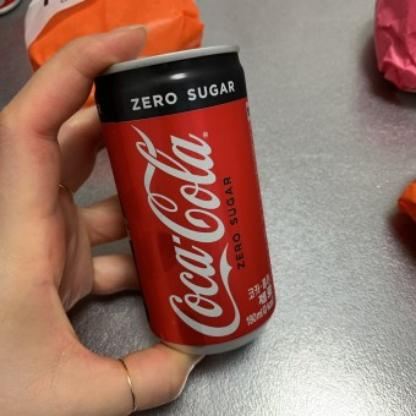Can: (96, 43, 280, 359)
